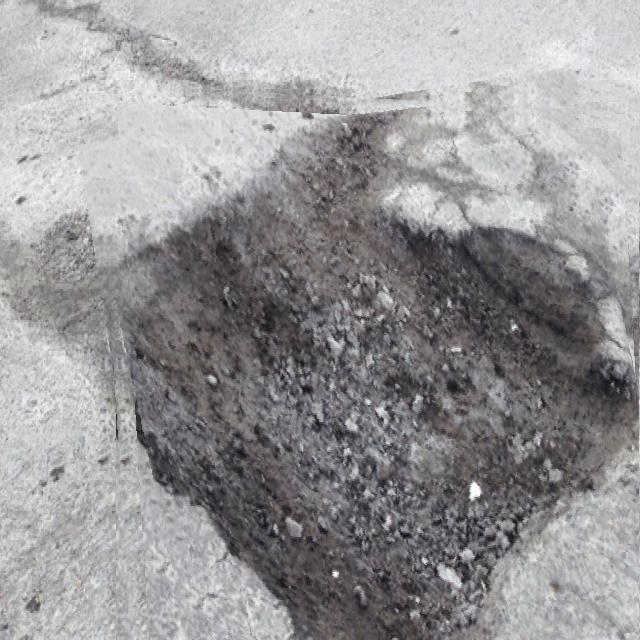Pothole: (97, 84, 639, 640)
